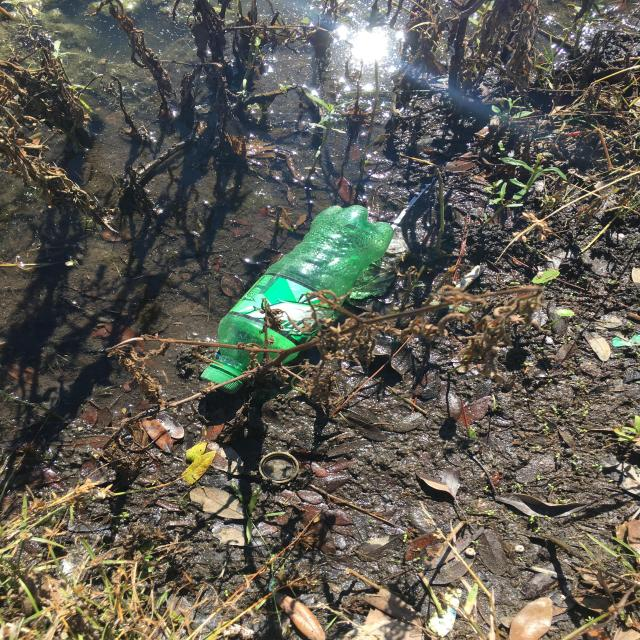litter: (193, 204, 399, 395)
